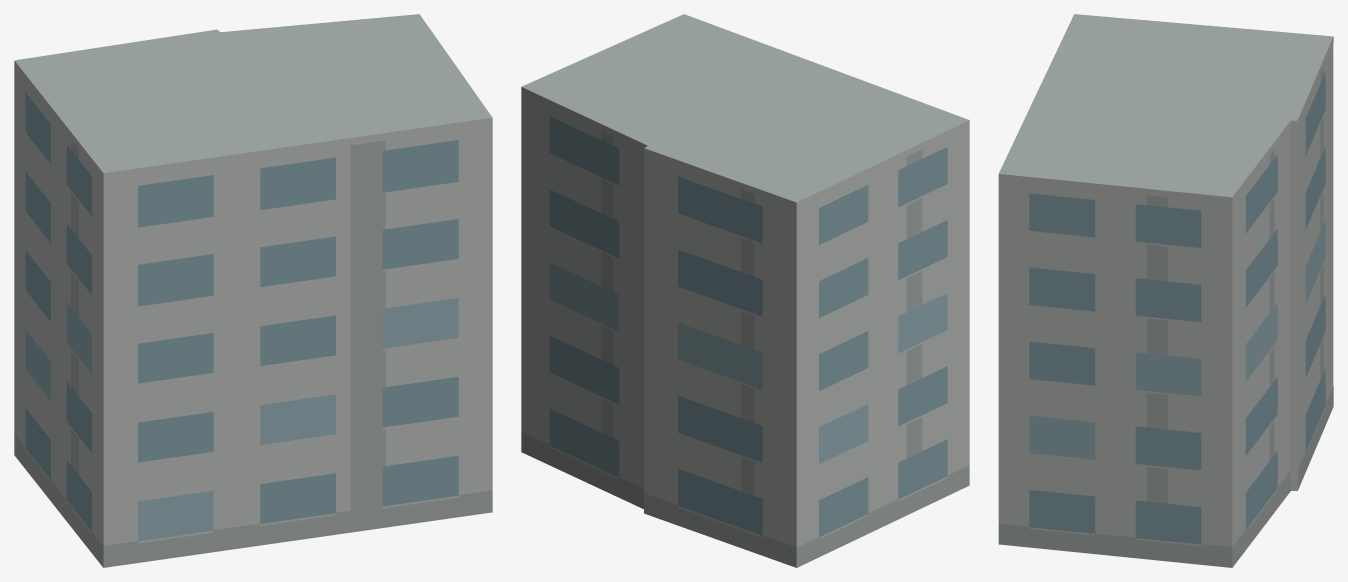
Rendered from survey-upis-32733893.glb.
3 views of the same model, side by side, from view 1: azimuth 30°, elevation 25°; view 2: azimuth 150°, elevation 25°; view 3: azimuth 270°, elevation 25° (orthographic). The views are drawn at different scales.
Parts seen in each view (by area): view 1: survey-upis-32733893.tmp; view 2: survey-upis-32733893.tmp; view 3: survey-upis-32733893.tmp.
Part boxes in pixels (bbox=[...]): survey-upis-32733893.tmp: bbox=[14, 14, 492, 567]; survey-upis-32733893.tmp: bbox=[521, 14, 969, 567]; survey-upis-32733893.tmp: bbox=[998, 14, 1333, 567].
Bounding box in the file's own units: 14.02 × 13.2 × 10.82.
